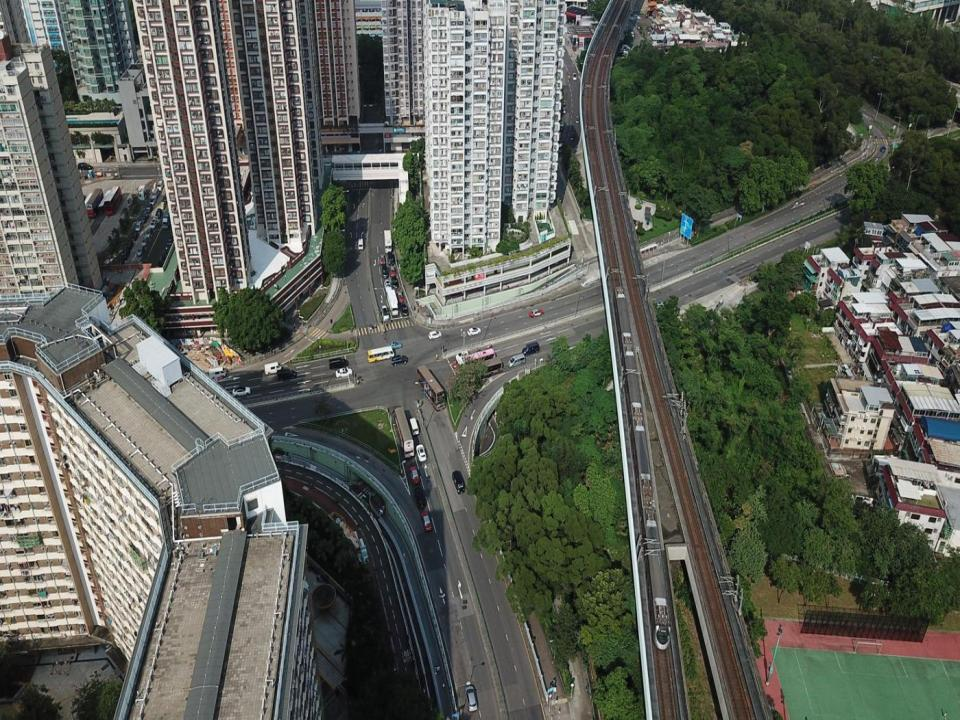bus: (416, 364, 446, 411), (454, 348, 496, 377), (391, 406, 414, 458), (461, 356, 502, 384), (85, 188, 104, 219), (104, 185, 122, 216), (367, 345, 394, 363)
car: (465, 684, 478, 711), (328, 356, 349, 370), (264, 361, 285, 375), (276, 368, 298, 381), (522, 341, 540, 356), (414, 486, 426, 508), (420, 511, 432, 532), (409, 465, 421, 485), (390, 354, 410, 366), (335, 367, 353, 380), (416, 443, 426, 462), (232, 386, 251, 396), (528, 307, 544, 318), (380, 305, 390, 322), (652, 300, 666, 312), (455, 349, 469, 360), (467, 326, 481, 337), (120, 246, 131, 260), (385, 251, 395, 266), (386, 341, 402, 350), (428, 330, 442, 340), (144, 226, 154, 240), (381, 262, 389, 279), (139, 211, 150, 223), (78, 163, 94, 171), (391, 275, 400, 289), (134, 220, 144, 232), (395, 289, 404, 302), (154, 207, 163, 220), (400, 302, 408, 316), (384, 279, 392, 293), (152, 186, 160, 200), (452, 359, 463, 369), (136, 245, 145, 257), (389, 264, 396, 278), (141, 235, 149, 247), (379, 253, 386, 266), (116, 258, 125, 268), (125, 240, 134, 250), (150, 219, 159, 229), (752, 274, 763, 282), (145, 203, 153, 214), (156, 180, 164, 191), (130, 231, 139, 240), (358, 238, 364, 251), (159, 201, 166, 211), (162, 194, 169, 204), (879, 146, 887, 154), (149, 197, 156, 206)
truck: (387, 289, 398, 316), (161, 207, 172, 229), (384, 229, 392, 254)
van: (451, 470, 466, 494), (507, 353, 526, 368), (208, 366, 227, 380), (408, 417, 420, 436)
